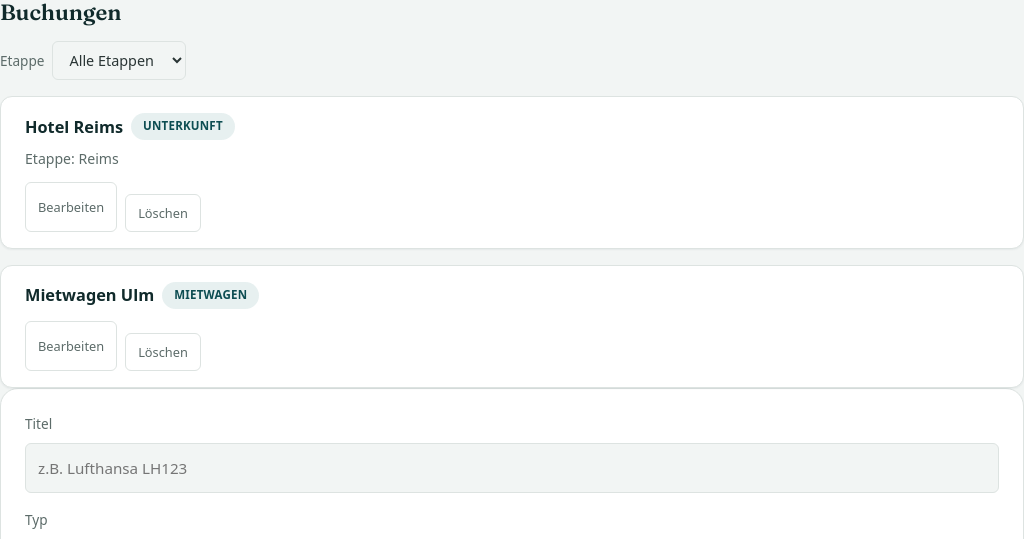
Test: Etappen-Filter im Bereich Buchungen › Nutzerpfad: "Ohne Etappe" waehlen -> nur die nicht zugeordneten Eintraege bleiben sichtbar
Expected: the text "Hotel Reims" is shown, [25, 114, 123, 140]
Select "Ohne Etappe" in the dropdown labelled "Etappe" at point(120, 61), box [52, 42, 186, 80]
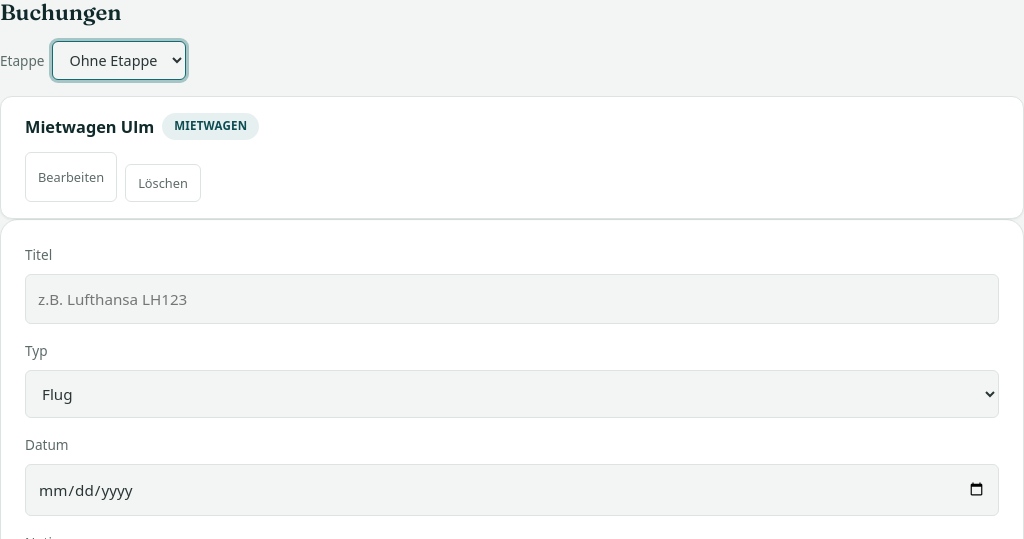
Expected: the text "Mietwagen Ulm" is shown, [25, 114, 154, 140]
Expected: the text "Hotel Reims" is gone
